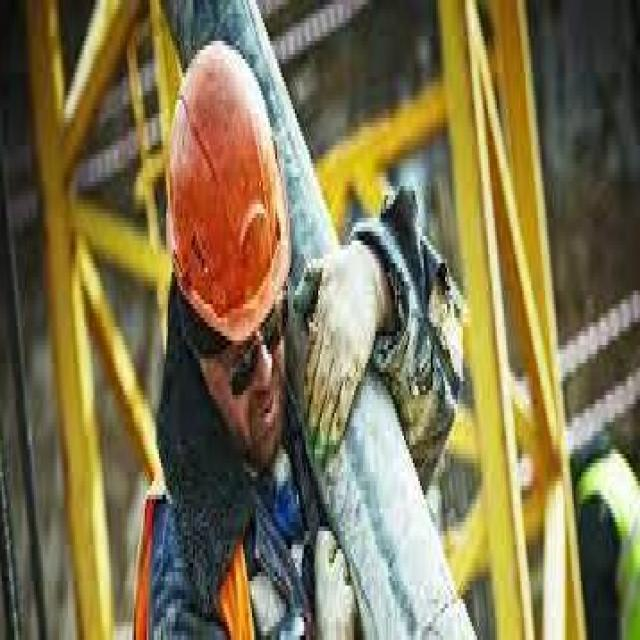Reflective-Jacket: (565, 426, 640, 640)
Safety-Helmet: (159, 36, 288, 345)
